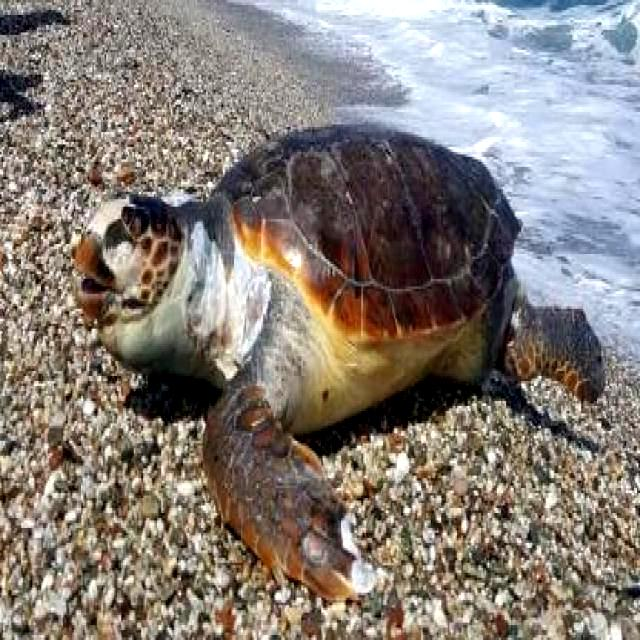Sea turtle: (72, 119, 610, 604)
